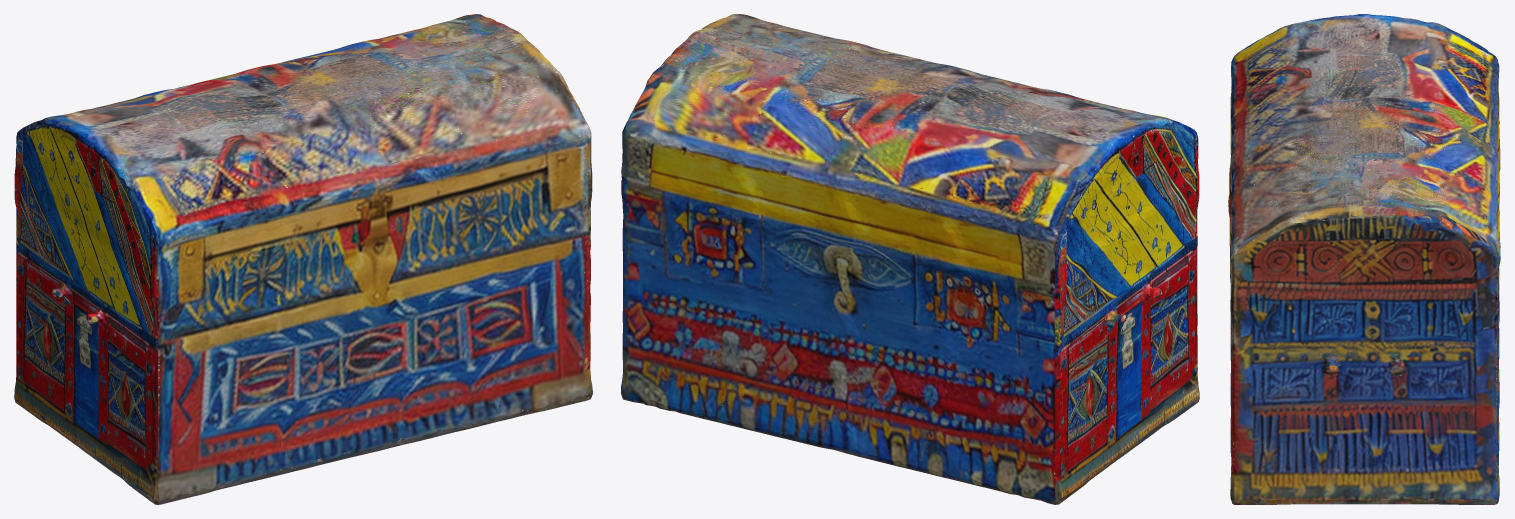
3 renders of one model, left to right at view 1: azimuth 30°, elevation 25°; view 2: azimuth 150°, elevation 25°; view 3: azimuth 270°, elevation 25°, orthographic. The views are drawn at different scales.
Parts seen in each view (by area): view 1: mesh; view 2: mesh; view 3: mesh.
Part boxes in pixels (x1,y1,x2,y2): mesh: (14,14,592,504); mesh: (621,14,1199,504); mesh: (1228,14,1500,504).
Bounding box in the file's own units: 0.9776 × 0.635 × 0.5301.
Materials: 1 (1 with a texture image).
